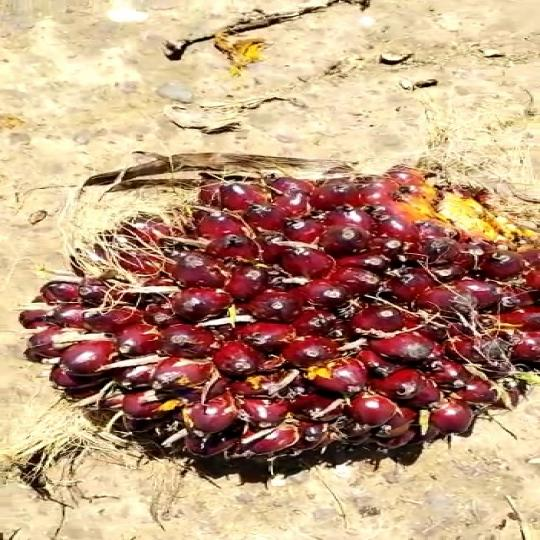kurang masak: (23, 170, 540, 472)
